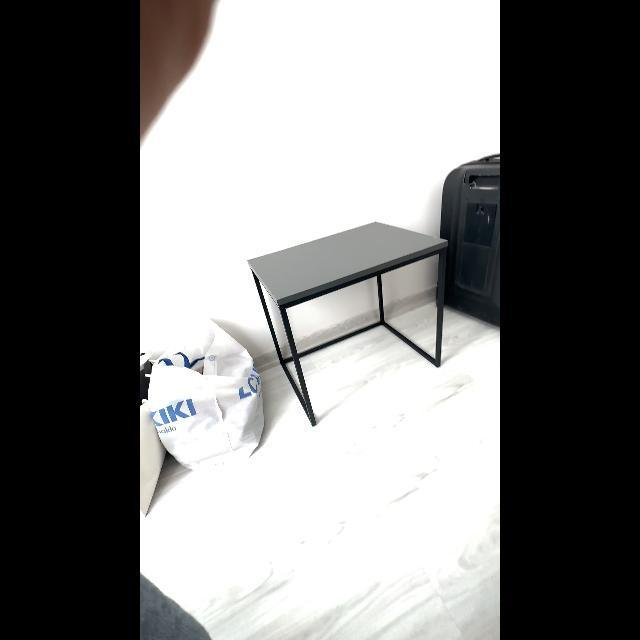coffee table: (240, 216, 454, 424)
